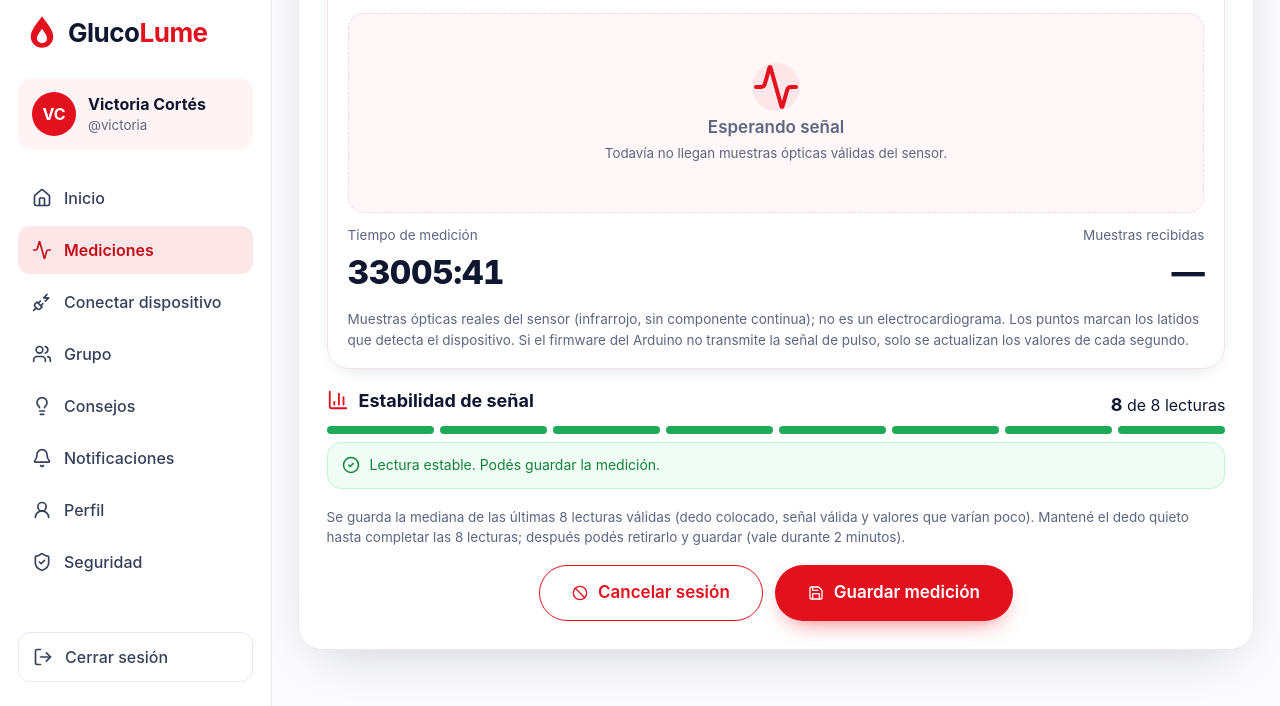
Test: Nueva medición con el dispositivo: sesión y guardado › estado C: con 8 lecturas válidas muestra «Lectura estable», habilita guardar y al guardar ofrece ver la medición o volver
(page scrolled)
Expected: the text "Lectura estable. Podés guardar la medición." is shown, [370,455,660,476]
Expected: the button "Cancelar sesión" is enabled, [539,565,763,621]
Click the button "Guardar medición" at (894, 593), box [775,565,1013,621]
(page scrolled)
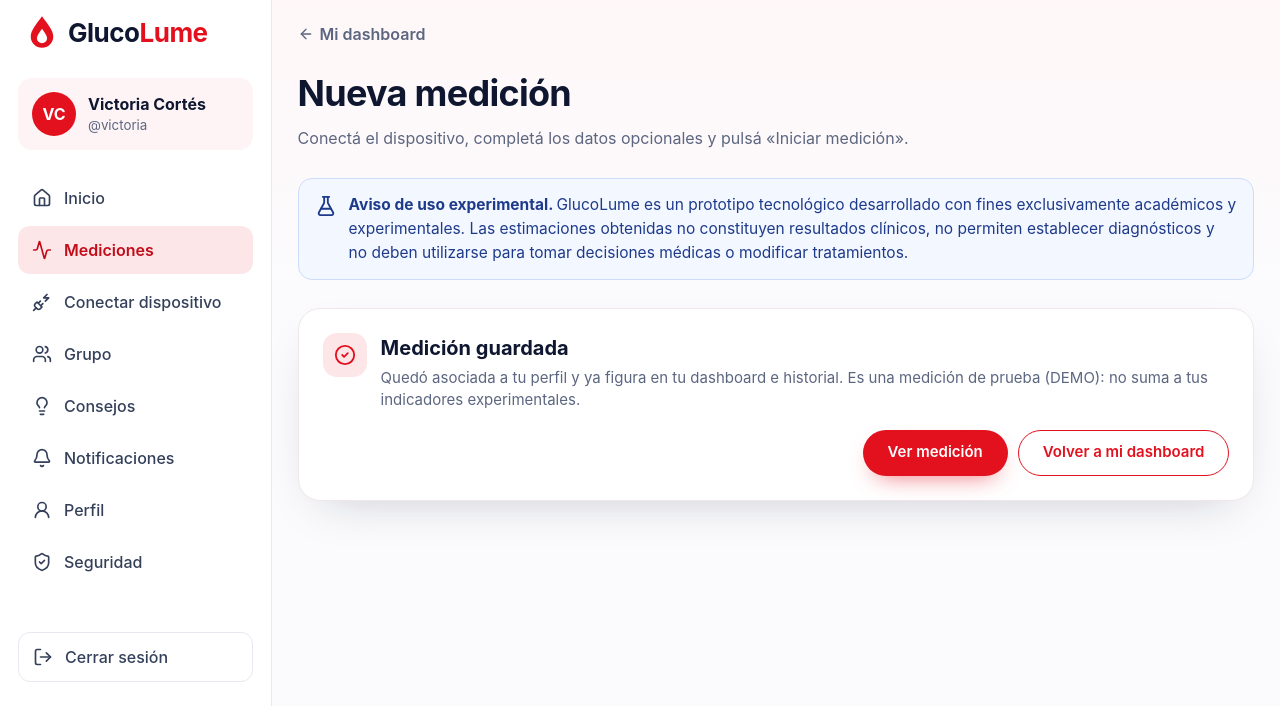
Now the heading "Medición guardada" is shown, box [381,336,569,360]
